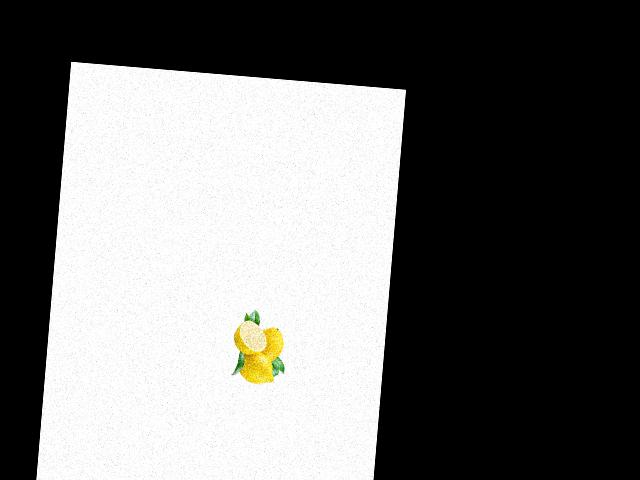lemon: (234, 348, 280, 388)
